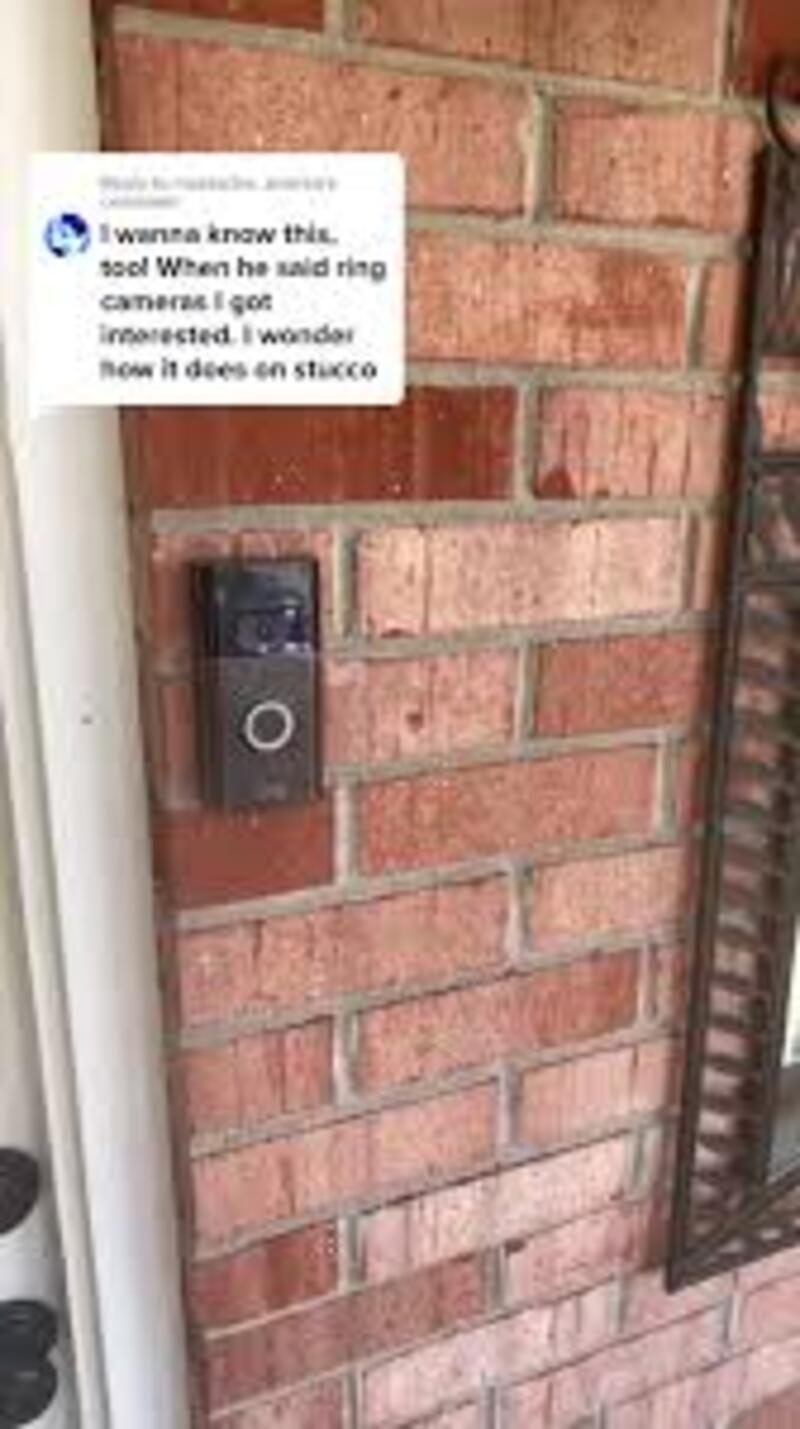doorbell: (162, 551, 346, 826)
